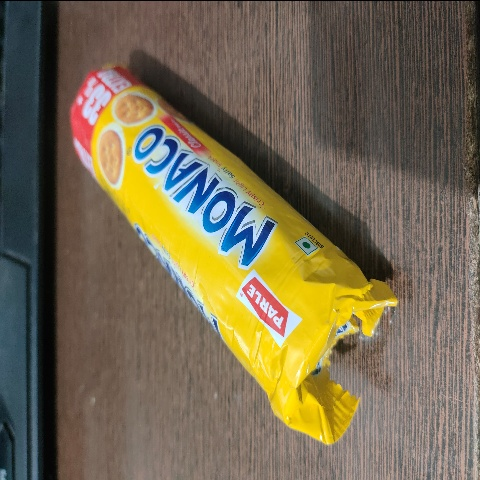monaco: (53, 47, 452, 461)
